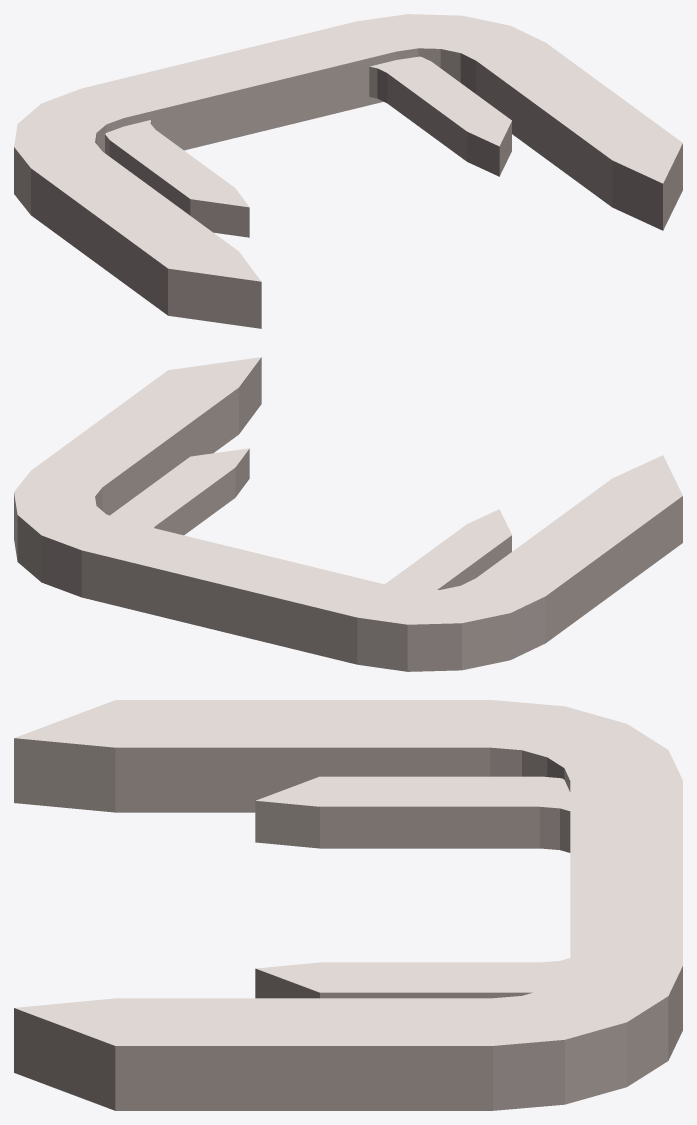
File: staples.glb
3 views of the same model, one above another, from view 1: azimuth 30°, elevation 25°; view 2: azimuth 150°, elevation 25°; view 3: azimuth 270°, elevation 25° (orthographic). The views are drawn at different scales.
Visible parts, largest first — view 1: StapleHeavy, Staple; view 2: StapleHeavy, Staple; view 3: StapleHeavy, Staple.
Part boxes in pixels (x1=…): StapleHeavy: x1=14, y1=14, x2=682, y2=328; Staple: x1=105, y1=56, x2=511, y2=237; StapleHeavy: x1=14, y1=357, x2=682, y2=671; Staple: x1=110, y1=448, x2=511, y2=590; StapleHeavy: x1=14, y1=700, x2=682, y2=1110; Staple: x1=255, y1=776, x2=570, y2=998.
Size of the model in its own units: 0.08 by 0.007 by 0.0654.
1 material, 1 textured.
